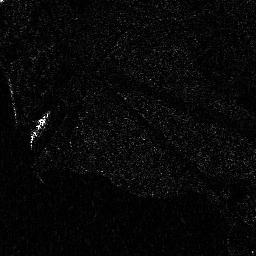ship: (28, 110, 50, 145)
